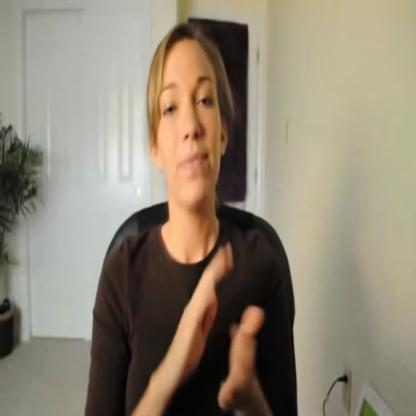NiceToMeetYou: (130, 202, 280, 412)
